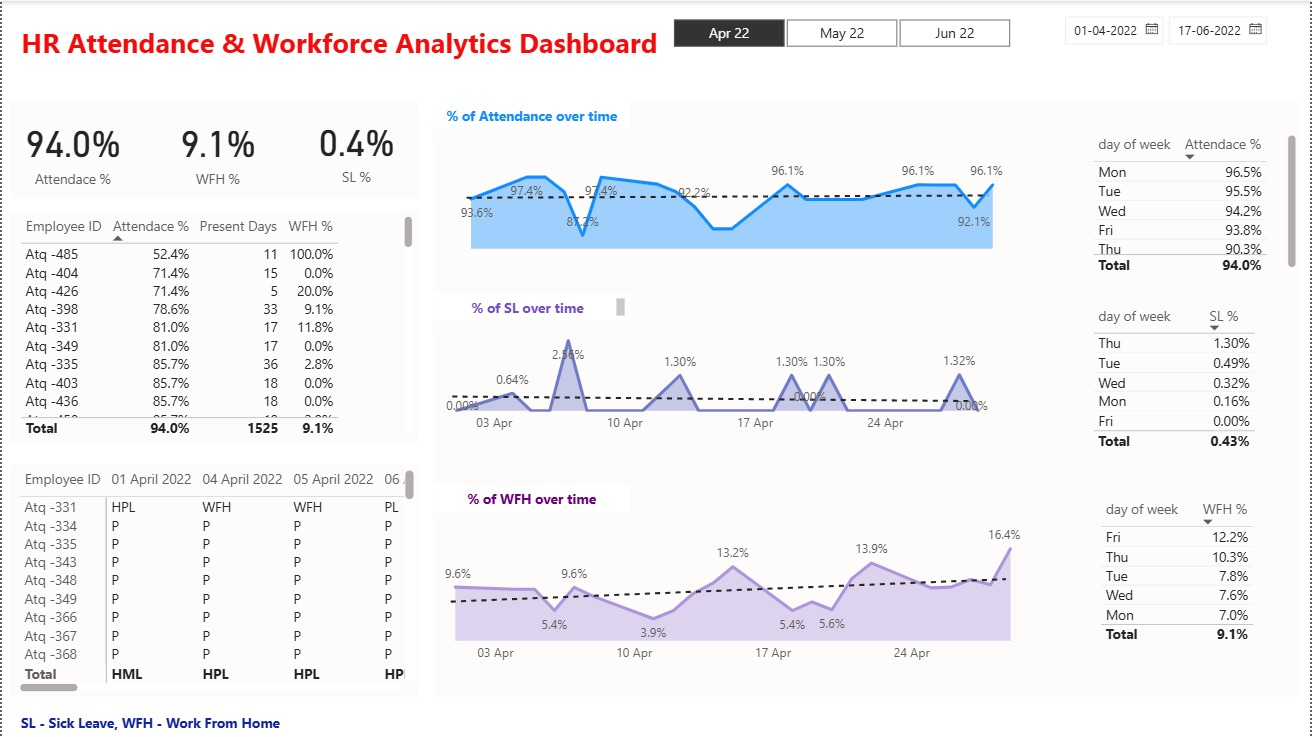

This screenshot's page, from the dashboard's own definition file:
{"tool":"powerbi","page":{"name":"Presence Insights","canvas":[1280,720],"ordinal":0},"visuals":[{"type":"textbox","box":[7.8,205.6,399.9,225.5],"z":0},{"type":"textbox","box":[7.8,453.3,399.8,227.6],"z":1000},{"type":"textbox","box":[422.3,97.9,848.1,582.3],"z":2000},{"type":"textbox","box":[7.8,98,399.9,95.4],"z":3000},{"type":"tableEx","fields":{"Values":["Final Data.Employee ID","Measures (2).Attendace %","Measures (2).Present Days","Measures (2).WFH %"]},"box":[12.6,205.2,394.9,225.7],"z":4000},{"type":"slicer","fields":{"Values":["Final Data.Date"]},"box":[1027.3,5.2,252.7,46.3],"z":5000},{"type":"slicer","fields":{"Values":["Final Data.MMM YY"]},"box":[630.4,10.5,379.5,35.8],"z":6000},{"type":"areaChart","fields":{"Category":["Final Data.MMM YY","Final Data.Date"],"Y":["Measures (2).WFH %"]},"box":[420.7,502.3,589,153.5],"z":7000},{"type":"areaChart","fields":{"Category":["Final Data.WeekNo","Final Data.Date"],"Y":["Measures (2).Attendace %"]},"box":[444.1,144.9,540.4,103.2],"z":8000},{"type":"card","fields":{"Values":["Measures (2).Attendace %"]},"box":[7.8,98,124,96.3],"z":9000},{"type":"card","fields":{"Values":["Measures (2).WFH %"]},"box":[141.4,98,138.8,96.3],"z":10000},{"type":"areaChart","fields":{"Category":["Final Data.MMM YY","Final Data.Date"],"Y":["Measures (2).SL %"]},"box":[422.5,307.1,556,124],"z":11000},{"type":"card","fields":{"Values":["Measures (2).SL %"]},"box":[286.3,97.2,121.4,96.3],"z":13000},{"type":"textbox","box":[0,0,653,84.4],"z":14000},{"type":"textbox","box":[422.4,98.2,192.5,27.5],"z":15000},{"type":"textbox","box":[422.5,286.3,192.6,26.9],"z":16000},{"type":"textbox","box":[422.1,473.7,192.6,27.2],"z":17000},{"type":"pivotTable","fields":{"Rows":["Final Data.Employee ID"],"Columns":["Final Data.Date"],"Values":["Min(Final Data.Value)"]},"box":[11.7,453.3,395.9,227.6],"z":18000},{"type":"textbox","box":[13.6,691.6,289.8,28.2],"z":19000},{"type":"tableEx","fields":{"Values":["Final Data.day of week","Measures (2).Attendace %"]},"box":[1060.9,125.8,209.9,145.7],"z":20000},{"type":"tableEx","fields":{"Values":["Final Data.day of week","Measures (2).SL %"]},"box":[1060.9,294.1,191.7,167.4],"z":21000},{"type":"tableEx","fields":{"Values":["Final Data.day of week","Measures (2).WFH %"]},"box":[1068.7,483.2,170,167.4],"z":22000}]}

Visuals, with their boxes in screenshot pixels (x1, y1, x2, y2), scaled from the page's 1280x720 canvas onto the 1312x737 screenshot:
textbox: rect(8, 210, 418, 441)
textbox: rect(8, 464, 418, 697)
textbox: rect(433, 100, 1302, 696)
textbox: rect(8, 100, 418, 198)
tableEx - Final Data.Employee ID x Measures (2).Attendace %: rect(13, 210, 418, 441)
slicer - Final Data.Date: rect(1053, 5, 1311, 53)
slicer - Final Data.MMM YY: rect(646, 11, 1035, 47)
areaChart - Final Data.MMM YY x Final Data.Date: rect(431, 514, 1035, 671)
areaChart - Final Data.WeekNo x Final Data.Date: rect(455, 148, 1009, 254)
card - Measures (2).Attendace %: rect(8, 100, 135, 199)
card - Measures (2).WFH %: rect(145, 100, 287, 199)
areaChart - Final Data.MMM YY x Final Data.Date: rect(433, 314, 1003, 441)
card - Measures (2).SL %: rect(293, 99, 418, 198)
textbox: rect(0, 0, 669, 86)
textbox: rect(433, 101, 630, 129)
textbox: rect(433, 293, 630, 321)
textbox: rect(433, 485, 630, 513)
pivotTable - Final Data.Employee ID x Final Data.Date: rect(12, 464, 418, 697)
textbox: rect(14, 708, 311, 736)
tableEx - Final Data.day of week x Measures (2).Attendace %: rect(1087, 129, 1303, 278)
tableEx - Final Data.day of week x Measures (2).SL %: rect(1087, 301, 1284, 472)
tableEx - Final Data.day of week x Measures (2).WFH %: rect(1095, 495, 1270, 666)
